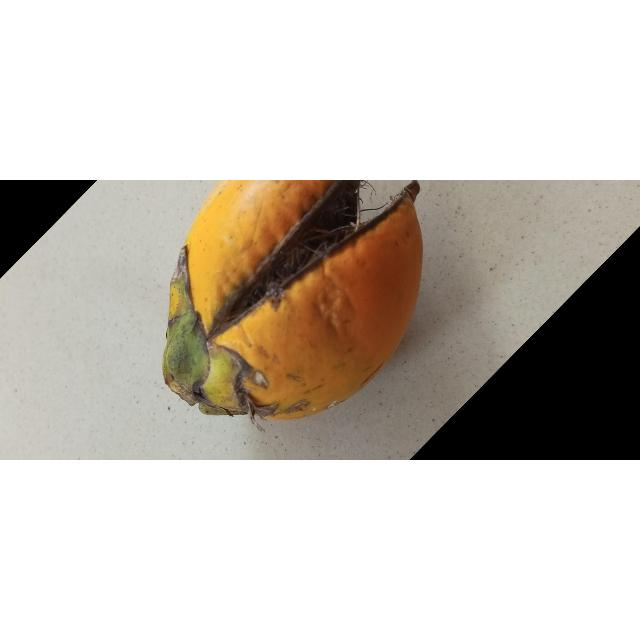damaged: (162, 180, 423, 422)
